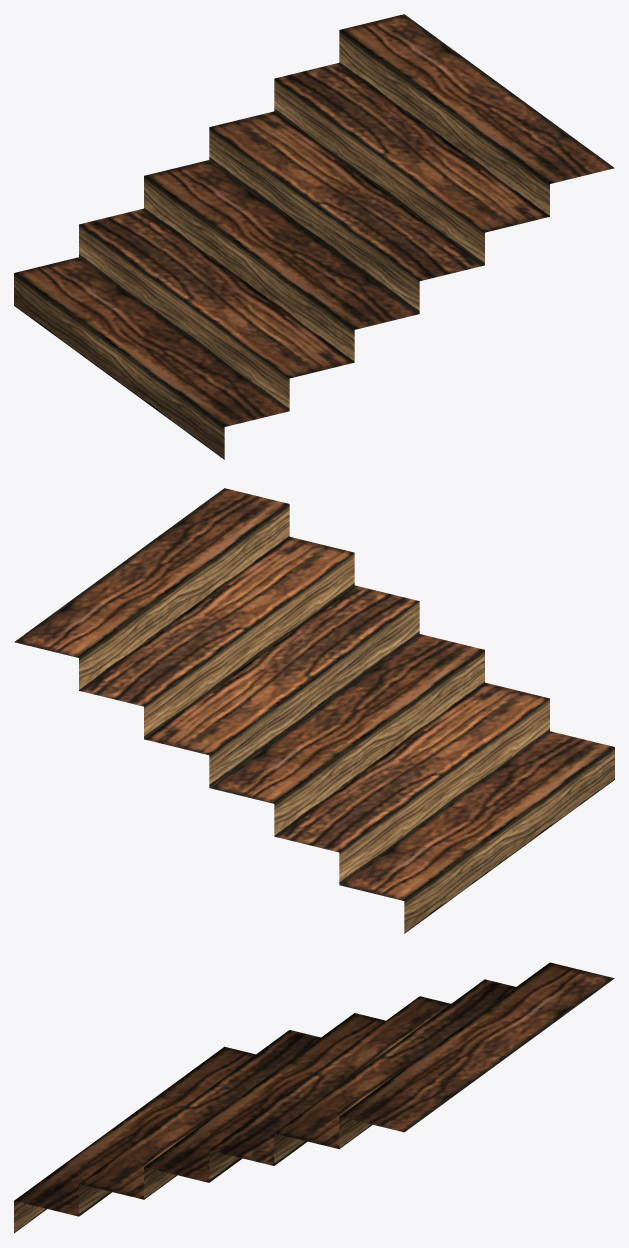
Rendered from LAKETOWN_EXTERIOR_PS_LT_STEPS196.fbx.
3 views of the same model, one above another, from view 1: azimuth 30°, elevation 25°; view 2: azimuth 150°, elevation 25°; view 3: azimuth 330°, elevation 25° (orthographic).
Parts seen in each view (by area): view 1: LAKETOWN_EXTERIOR_PS_LT_STEPS196; view 2: LAKETOWN_EXTERIOR_PS_LT_STEPS196; view 3: LAKETOWN_EXTERIOR_PS_LT_STEPS196.
Boxes of the visible parts, <box> form: LAKETOWN_EXTERIOR_PS_LT_STEPS196: <box>14,14,614,459</box>; LAKETOWN_EXTERIOR_PS_LT_STEPS196: <box>14,488,614,933</box>; LAKETOWN_EXTERIOR_PS_LT_STEPS196: <box>14,962,614,1233</box>.
Size of the model in its own units: 30000 by 14419 by 28017.
Materials: 2 (2 with a texture image).
